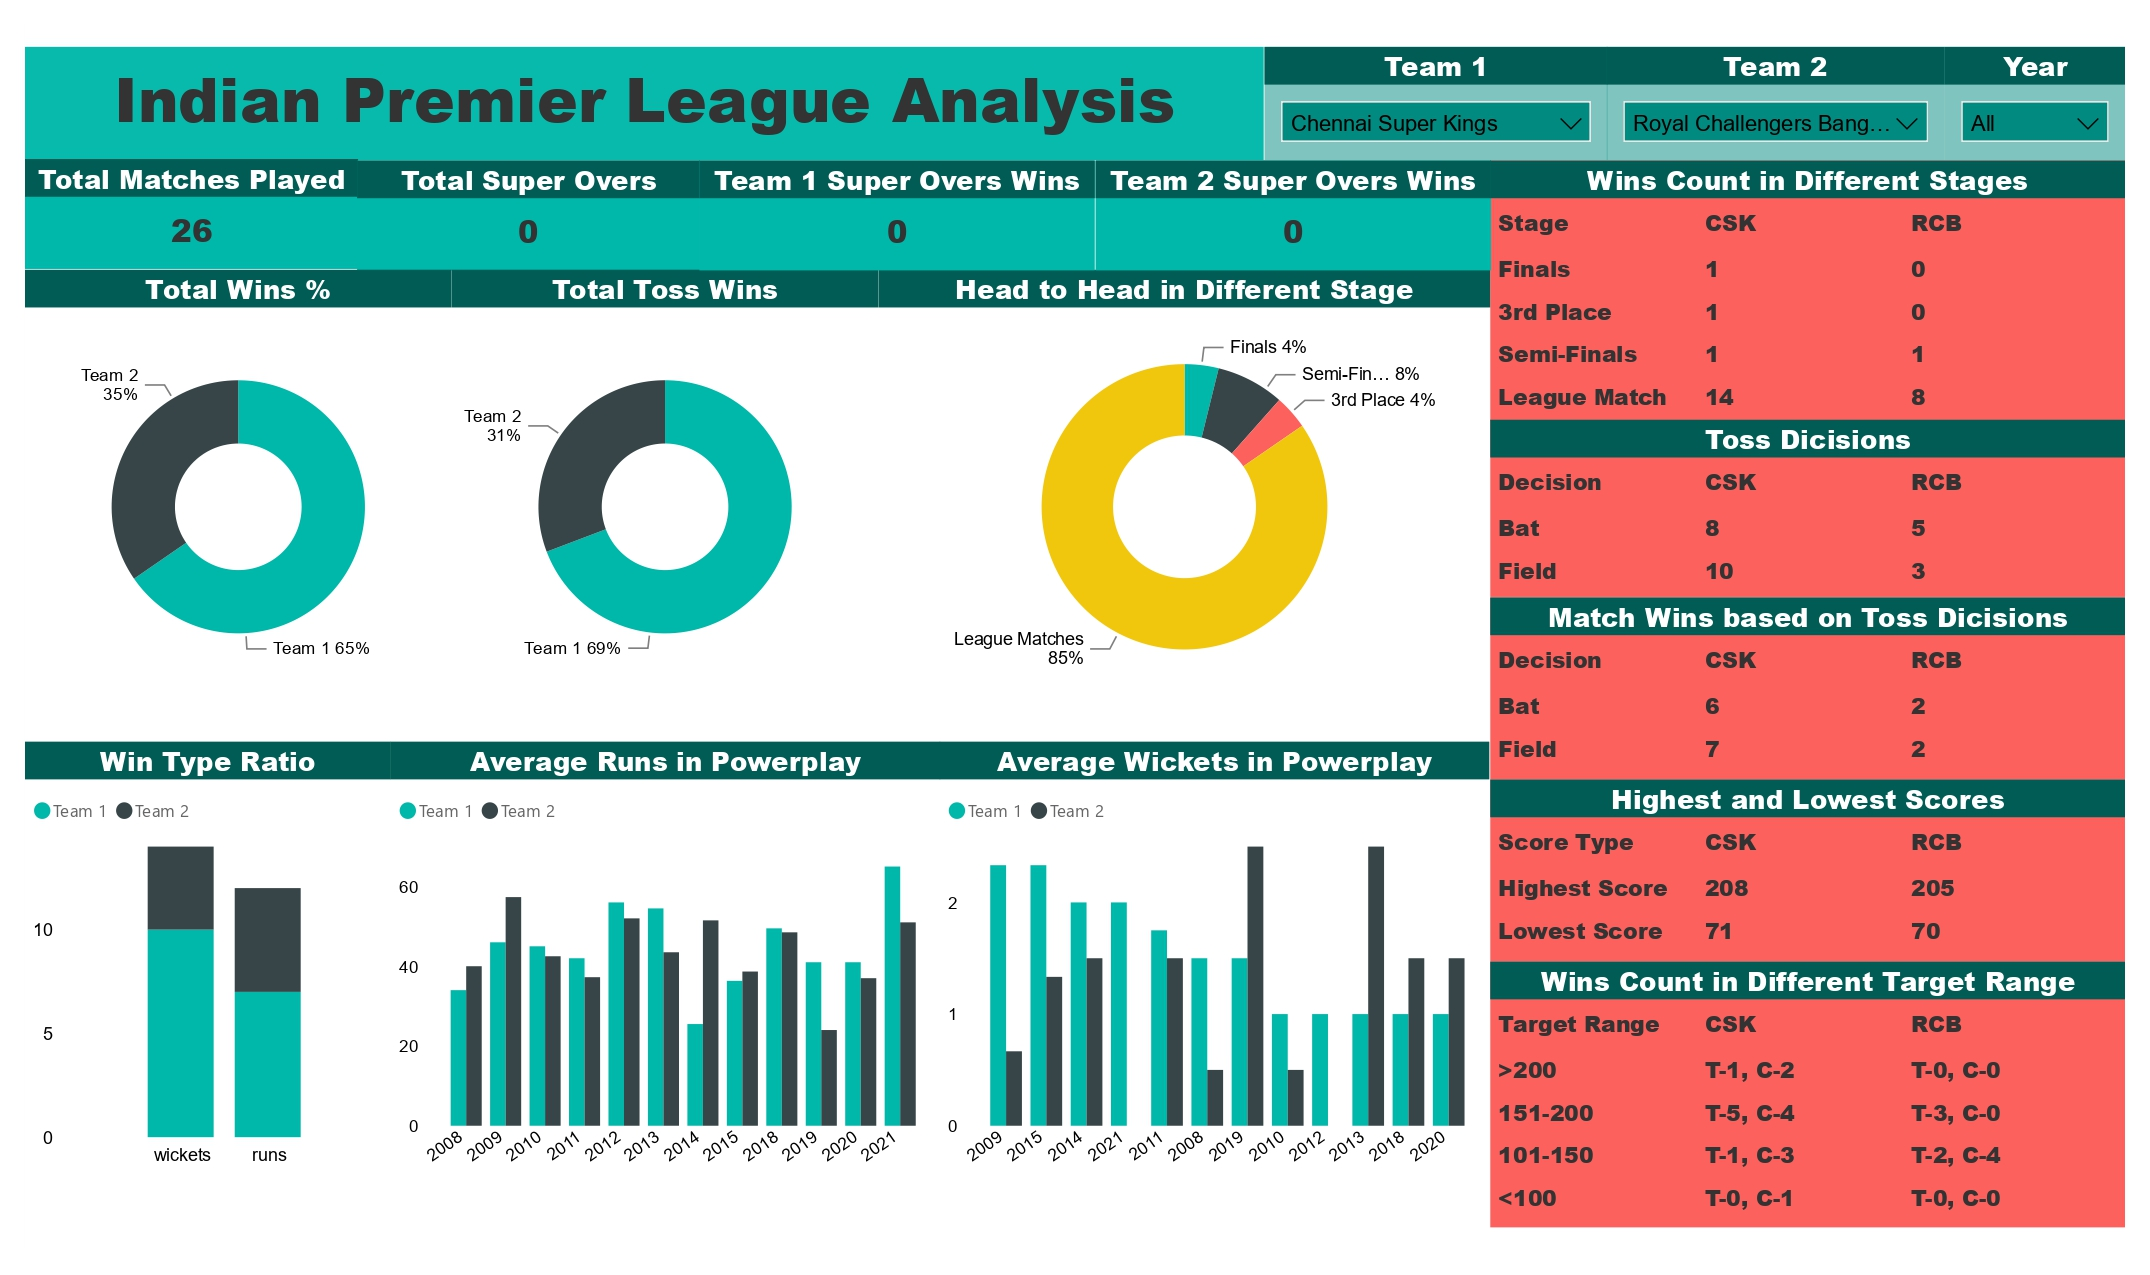

The page's visual inventory and layout, read from the dashboard file:
{"tool":"powerbi","page":{"name":"Team Analysis","canvas":[1280,720],"ordinal":3},"visuals":[{"type":"textbox","box":[0,0,755.1,68.6],"z":0},{"type":"slicer","title":"Team 1","fields":{"Values":["RunsperOver.BattingTeam"]},"box":[755.1,0,209.3,69],"z":1000},{"type":"slicer","title":"Team 2","fields":{"Values":["RunsperOver.BowlingTeam"]},"box":[964.4,0,205.7,69],"z":2000},{"type":"card","title":"Total Matches Played","fields":{"Values":["RunsperOver.TMP"]},"box":[0,68.6,202.7,67.1],"z":3000},{"type":"card","title":"Total Super Overs","fields":{"Values":["RunsperOver.Total Super Overs"]},"box":[202.1,69,209.3,66.6],"z":4000},{"type":"donutChart","title":"Total Toss Wins","fields":{"Y":["RunsperOver.T1TossWins","RunsperOver.T2TossWins"]},"box":[260.2,135.5,260.2,266.2],"z":5000},{"type":"donutChart","title":"Total Wins %","fields":{"Y":["RunsperOver.T1Wins","RunsperOver.T2Wins"]},"box":[0,135.5,260,266.2],"z":6000},{"type":"clusteredColumnChart","title":"Average Runs in Powerplay","fields":{"Category":["RunsperOver.Year"],"Y":["RunsperOver.T1 Avg Runs in PowerPlay","RunsperOver.T2 Avg Runs in PowerPlay"]},"box":[222.7,423.5,335.2,267.4],"z":7000},{"type":"slicer","title":"Year","fields":{"Values":["RunsperOver.Year"]},"box":[1170.2,0,110.1,69],"z":8000},{"type":"donutChart","title":"Head to Head in Different Stage","fields":{"Y":["RunsperOver.MetInFinals","RunsperOver.MetInSemiFinals","RunsperOver.MetIn3rdPlace","RunsperOver.MetInLeagues"]},"box":[520.3,135.5,372.7,266.2],"z":9000},{"type":"multiRowCard","title":"Wins Count in Different Stages","fields":{"Values":["RunsperOver.Stage","RunsperOver.Team1","RunsperOver.Team2","RunsperOver.Finals","RunsperOver.T1WinsInFinals","RunsperOver.T2WinsInFinals","RunsperOver.PlayOffs","RunsperOver.T1WinIn3rdPlace","RunsperOver.T2WinIn3rdPlace","RunsperOver.Semi-Finals","RunsperOver.T1WinsSemiFinal","RunsperOver.T2WinsSemiFinal"]},"box":[893,69,387.2,158.5],"z":10000},{"type":"multiRowCard","title":"Toss Dicisions","fields":{"Values":["RunsperOver.Decision","RunsperOver.Team1","RunsperOver.Team2","RunsperOver.Bat","RunsperOver.T1Bat","RunsperOver.T2Bat","RunsperOver.Field","RunsperOver.T1Field","RunsperOver.T2Field"]},"box":[893,227.5,387.2,107.7],"z":11000},{"type":"lineClusteredColumnComboChart","title":"Average Wickets in Powerplay","fields":{"Category":["RunsperOver.Year"],"Y":["RunsperOver.T1 Avg Wickets in PowerPlay","RunsperOver.T2 Avg Wickets in PowerPlay"]},"box":[557.8,423.5,335.2,267.4],"z":12000},{"type":"card","title":"Team 1 Super Overs Wins","fields":{"Values":["RunsperOver.Total Super Overs"]},"box":[411.4,69,240.8,66.6],"z":13000},{"type":"columnChart","title":"Win Type Ratio","fields":{"Category":["RunsperOver.OutcomeType"],"Y":["RunsperOver.Team1 Outcome Wins","RunsperOver.Team2 Outcome Wins"]},"box":[0,423.5,222.7,267.4],"z":14000},{"type":"card","title":"Team 2 Super Overs Wins","fields":{"Values":["RunsperOver.T2 Super Overs Wins"]},"box":[652.2,69,240.8,66.6],"z":15000},{"type":"multiRowCard","title":"Match Wins based on Toss Dicisions","fields":{"Values":["RunsperOver.Decision","RunsperOver.Team1","RunsperOver.Team2","RunsperOver.Bat","RunsperOver.T1BatWin","RunsperOver.T2BatWin","RunsperOver.Field","RunsperOver.T1FieldWin","RunsperOver.T2FieldWin"]},"box":[893,335.2,387.2,111.3],"z":16000},{"type":"multiRowCard","title":"Highest and Lowest Scores","fields":{"Values":["RunsperOver.ST","RunsperOver.Team1","RunsperOver.Team2","RunsperOver.HS","RunsperOver.T1HighestScore","RunsperOver.T2HighestScore","RunsperOver.LS","RunsperOver.T1LowestScore","RunsperOver.T2LowestScore"]},"box":[893,446.5,387.2,111.3],"z":17000},{"type":"multiRowCard","title":"Wins Count in Different Target Range","fields":{"Values":["RunsperOver.Target Range","RunsperOver.Team1","RunsperOver.Team2","RunsperOver.twohundred","RunsperOver.T1TR200","RunsperOver.T2TR200","RunsperOver.onefifty","RunsperOver.T1TR150_200","RunsperOver.T2TR150_200","RunsperOver.onehundredonefifty","RunsperOver.T1TR100_150","RunsperOver.T2TR100_150"]},"box":[893,557.8,387.2,162.2],"z":18000}]}

Visuals, with their boxes on the page's 1280x720 design canvas (x1, y1, x2, y2). These are canvas units, not pixel positions in the 2150x1275 screenshot, which may show the page scaled, cropped or inside an application window:
textbox: box=[0, 0, 755, 69]
"Team 1" slicer: box=[755, 0, 964, 69]
"Team 2" slicer: box=[964, 0, 1170, 69]
"Total Matches Played" card: box=[0, 69, 203, 136]
"Total Super Overs" card: box=[202, 69, 411, 136]
"Total Toss Wins" donutChart: box=[260, 136, 520, 402]
"Total Wins %" donutChart: box=[0, 136, 260, 402]
"Average Runs in Powerplay" clusteredColumnChart: box=[223, 424, 558, 691]
"Year" slicer: box=[1170, 0, 1280, 69]
"Head to Head in Different Stage" donutChart: box=[520, 136, 893, 402]
"Wins Count in Different Stages" multiRowCard: box=[893, 69, 1280, 228]
"Toss Dicisions" multiRowCard: box=[893, 228, 1280, 335]
"Average Wickets in Powerplay" lineClusteredColumnComboChart: box=[558, 424, 893, 691]
"Team 1 Super Overs Wins" card: box=[411, 69, 652, 136]
"Win Type Ratio" columnChart: box=[0, 424, 223, 691]
"Team 2 Super Overs Wins" card: box=[652, 69, 893, 136]
"Match Wins based on Toss Dicisions" multiRowCard: box=[893, 335, 1280, 446]
"Highest and Lowest Scores" multiRowCard: box=[893, 446, 1280, 558]
"Wins Count in Different Target Range" multiRowCard: box=[893, 558, 1280, 720]
